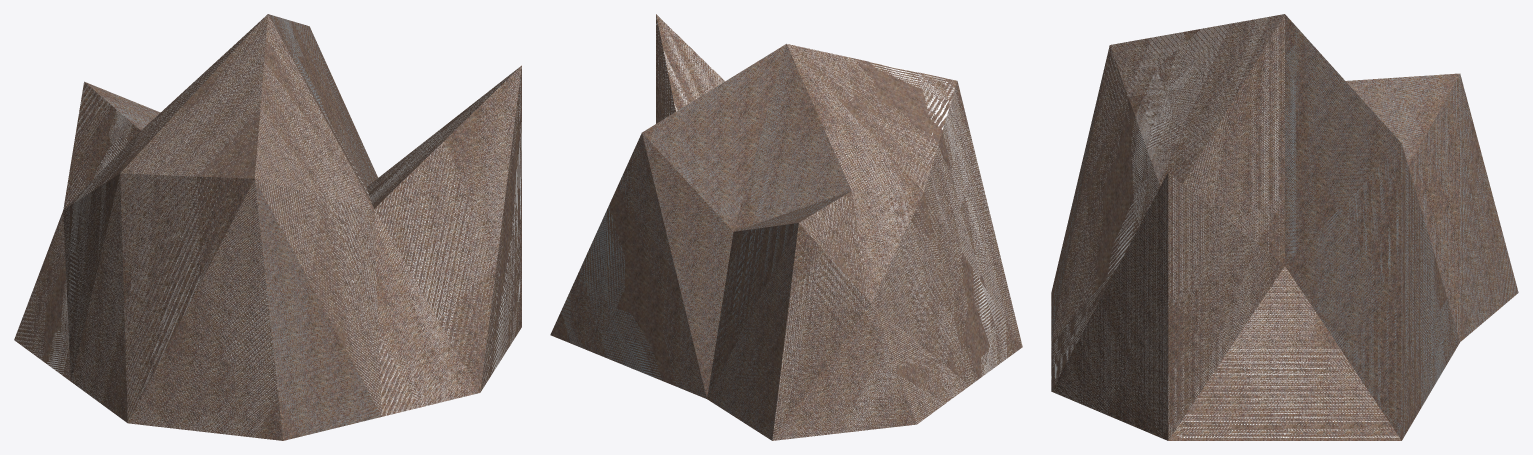
File: iron_rock.dae
3 views of the same model, side by side, from view 1: azimuth 30°, elevation 25°; view 2: azimuth 150°, elevation 25°; view 3: azimuth 270°, elevation 25° (orthographic). The views are drawn at different scales.
Parts seen in each view (by area): view 1: SketchUp; view 2: SketchUp; view 3: SketchUp.
Boxes of the visible parts, x1=… form: SketchUp: x1=14, y1=14, x2=521, y2=440; SketchUp: x1=550, y1=14, x2=1022, y2=440; SketchUp: x1=1051, y1=14, x2=1518, y2=440.
Size of the model in its own units: 394 by 394 by 305.
3 materials, 1 textured.
